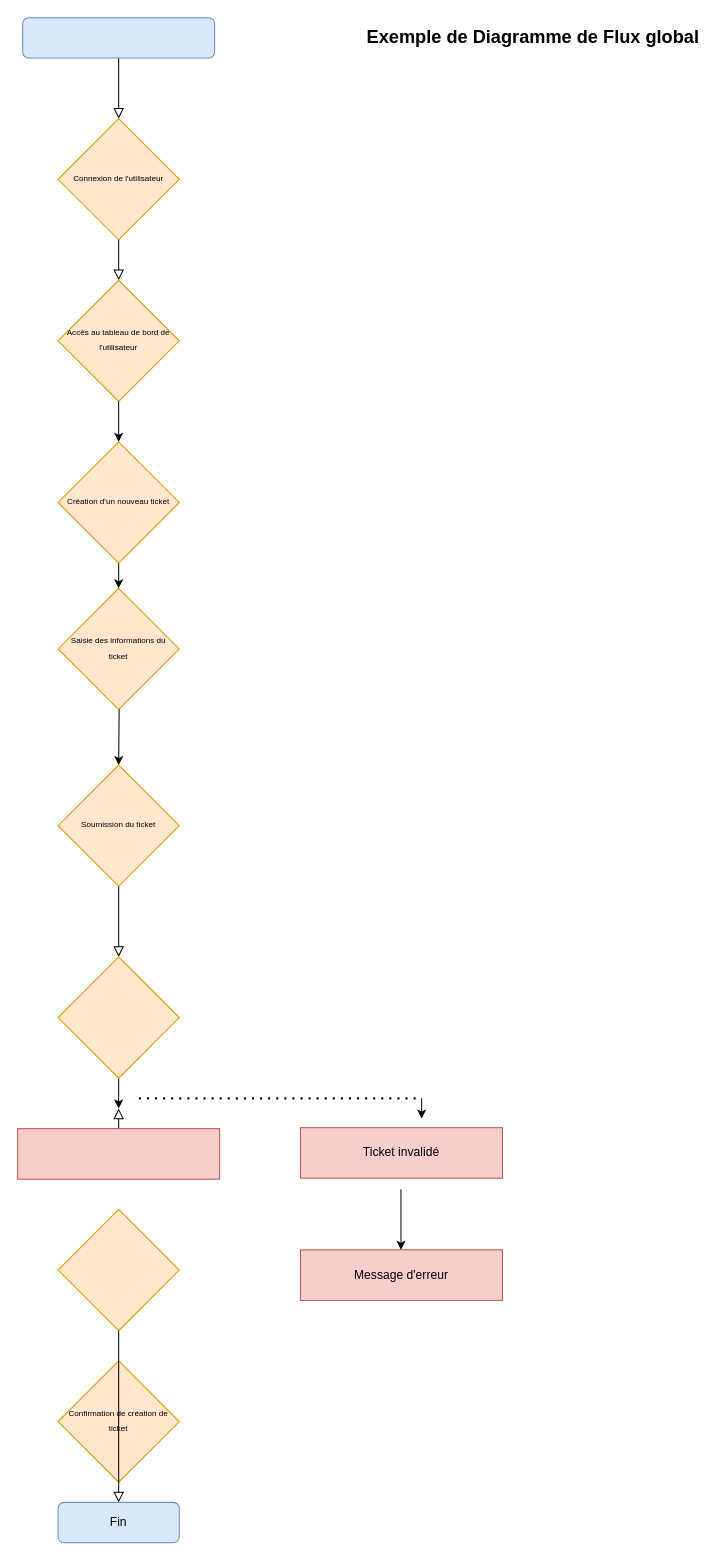
The diagram is 727 pixels wide and 1560 high, and some of its shapes have lost their labels. Each missing label, with the centre of its shape:
"Début" goes at point (118, 37).
"Stockage du ticket" goes at point (118, 1269).
"Ticket validé" goes at point (118, 1153).
"Vetification côté serveur" goes at point (118, 1017).
